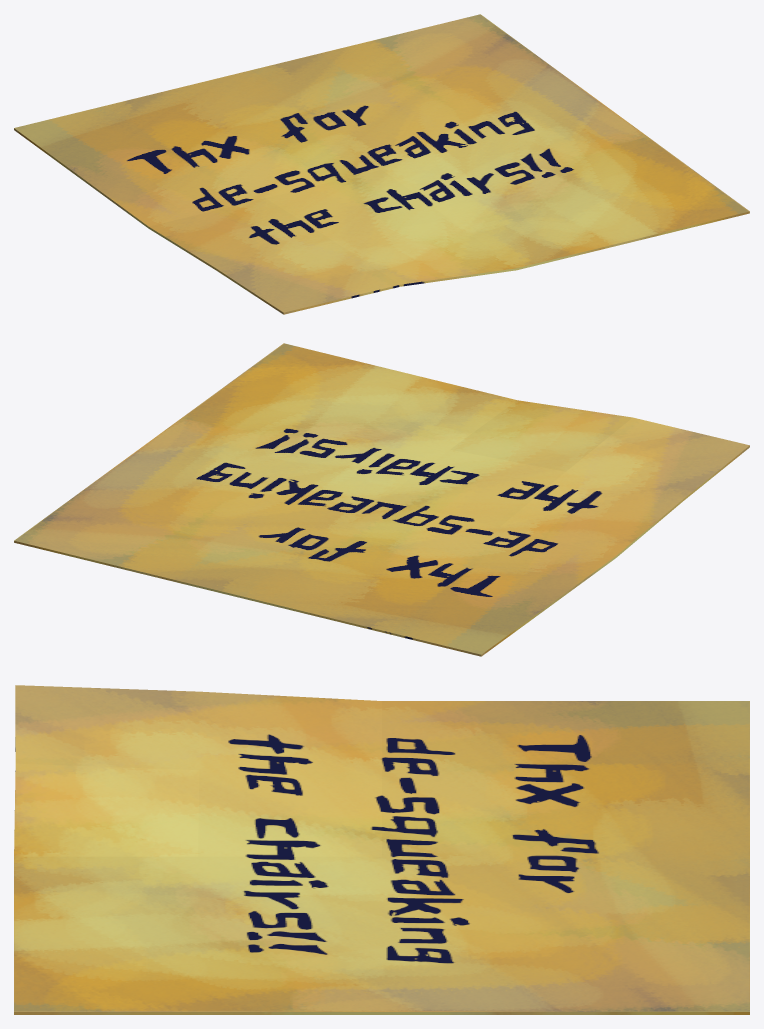
File: LO_notes_drill.glb
3 views of the same model, one above another, from view 1: azimuth 30°, elevation 25°; view 2: azimuth 150°, elevation 25°; view 3: azimuth 270°, elevation 25° (orthographic). The views are drawn at different scales.
Parts seen in each view (by area): view 1: Plane.004; view 2: Plane.004; view 3: Plane.004.
Boxes of the visible parts, x1,y1,x2,y2 form: Plane.004: [14, 14, 749, 314]; Plane.004: [14, 343, 749, 656]; Plane.004: [14, 685, 749, 1014].
Size of the model in its own units: 0.1099 by 0.00316 by 0.1099.
1 material, 1 textured.
